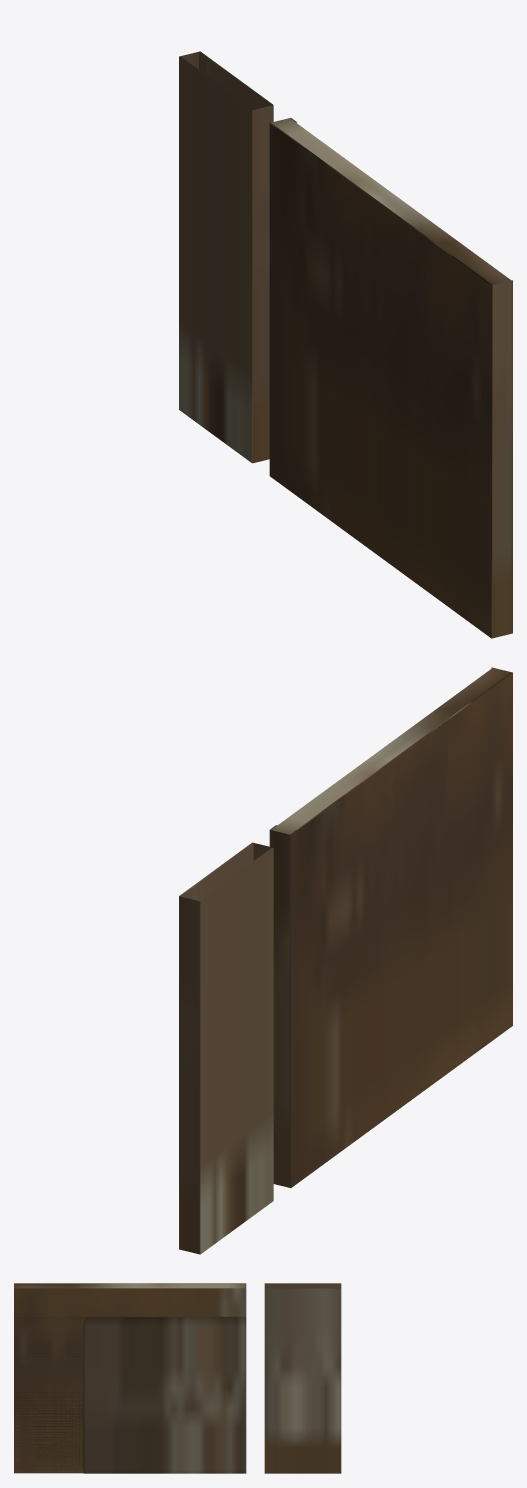
File: section-6.obj
3 views of the same model, one above another, from view 1: azimuth 30°, elevation 25°; view 2: azimuth 150°, elevation 25°; view 3: azimuth 270°, elevation 25° (orthographic). The views are drawn at different scales.
Bounding box in the file's own units: 0.07 × 1.01 × 2.47.
